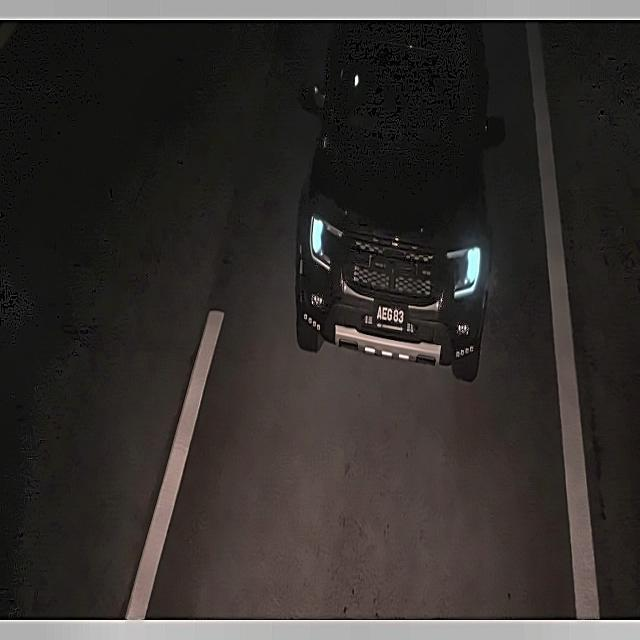car: (372, 302, 409, 328)
